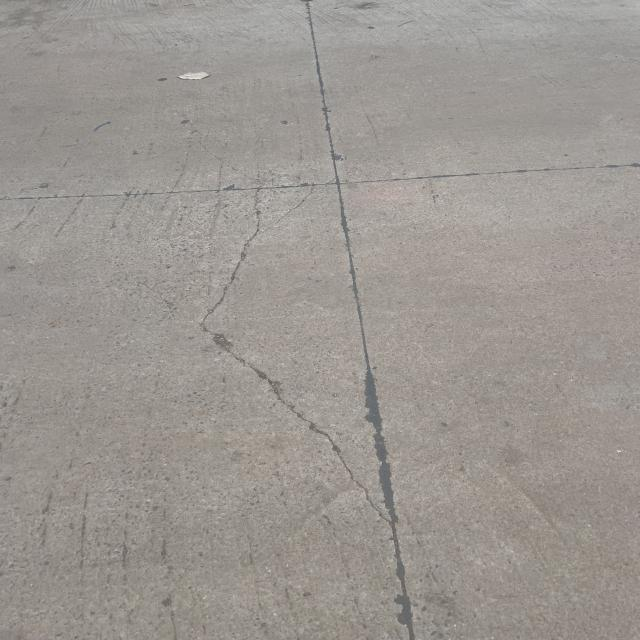D43: (231, 27, 506, 640)
